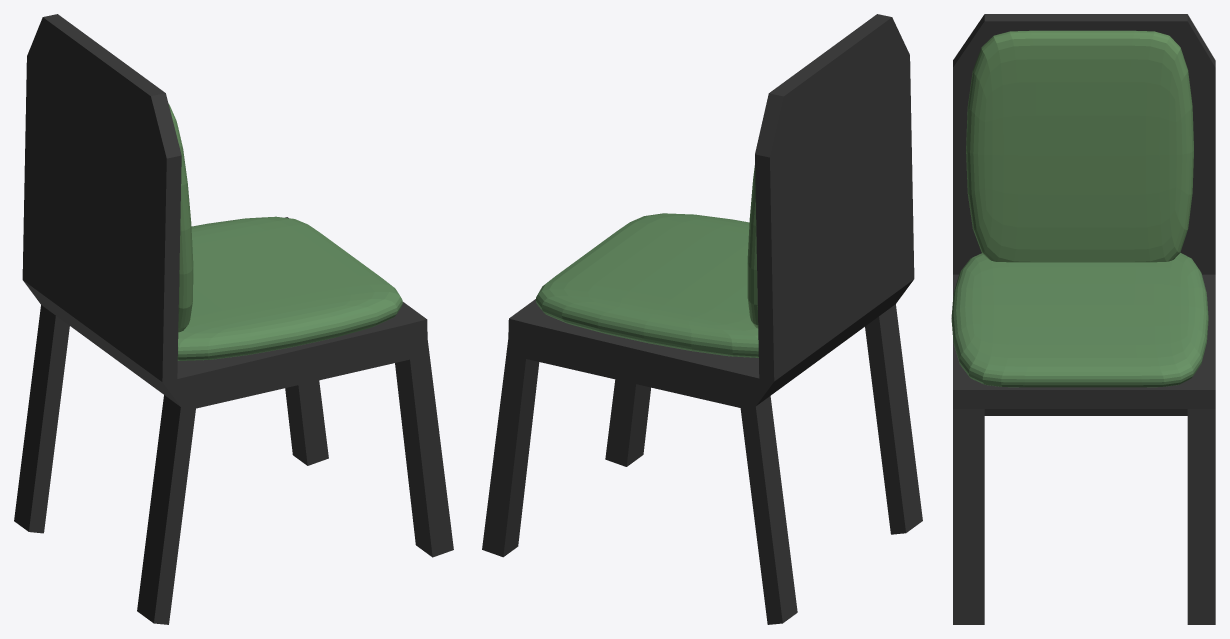
File: Chair.fbx
3 renders of one model, left to right at view 1: azimuth 30°, elevation 25°; view 2: azimuth 150°, elevation 25°; view 3: azimuth 270°, elevation 25°, orthographic. The views are drawn at different scales.
Visible parts, largest first — view 1: Cube, Cube.001, Cube.002; view 2: Cube, Cube.001, Cube.002; view 3: Cube.002, Cube, Cube.001.
Boxes of the visible parts, box(x1,y1,x2,y2) form: Cube: box(14, 14, 453, 624); Cube.001: box(177, 216, 402, 360); Cube.002: box(168, 103, 193, 332); Cube: box(482, 14, 922, 624); Cube.001: box(535, 213, 758, 357); Cube.002: box(747, 165, 758, 328); Cube.002: box(966, 30, 1193, 262); Cube: box(953, 14, 1215, 624); Cube.001: box(951, 253, 1208, 387).
Bounding box in the file's own units: 186 × 306 × 151.
